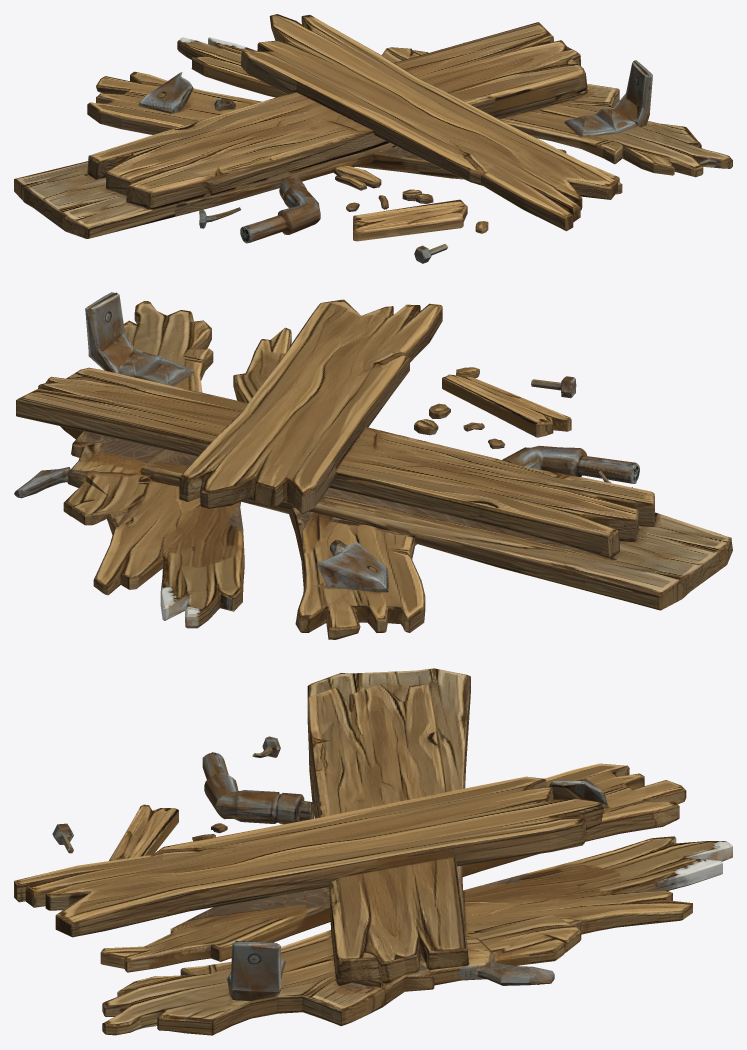
File: planks.glb
The picture shows the model from 3 angles, top to bottom: view 1: azimuth 30°, elevation 25°; view 2: azimuth 150°, elevation 25°; view 3: azimuth 270°, elevation 25°; orthographic projection. The views are drawn at different scales.
Visible parts, largest first — view 1: Mesh_0; view 2: Mesh_0; view 3: Mesh_0.
Boxes of the visible parts, x1=… form: Mesh_0: x1=14, y1=14, x2=732, y2=263; Mesh_0: x1=14, y1=292, x2=732, y2=639; Mesh_0: x1=14, y1=668, x2=732, y2=1035.
Size of the model in its own units: 0.5186 by 0.06 by 0.4618.
1 material, 1 textured.
